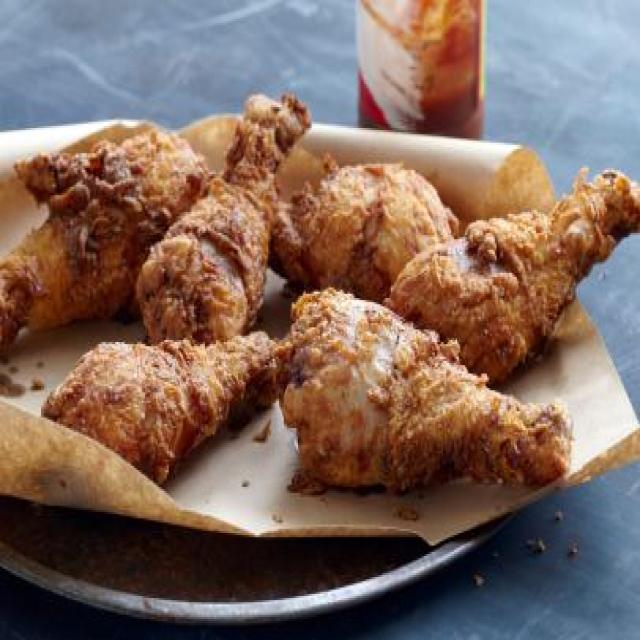Frango: (0, 90, 640, 491)
